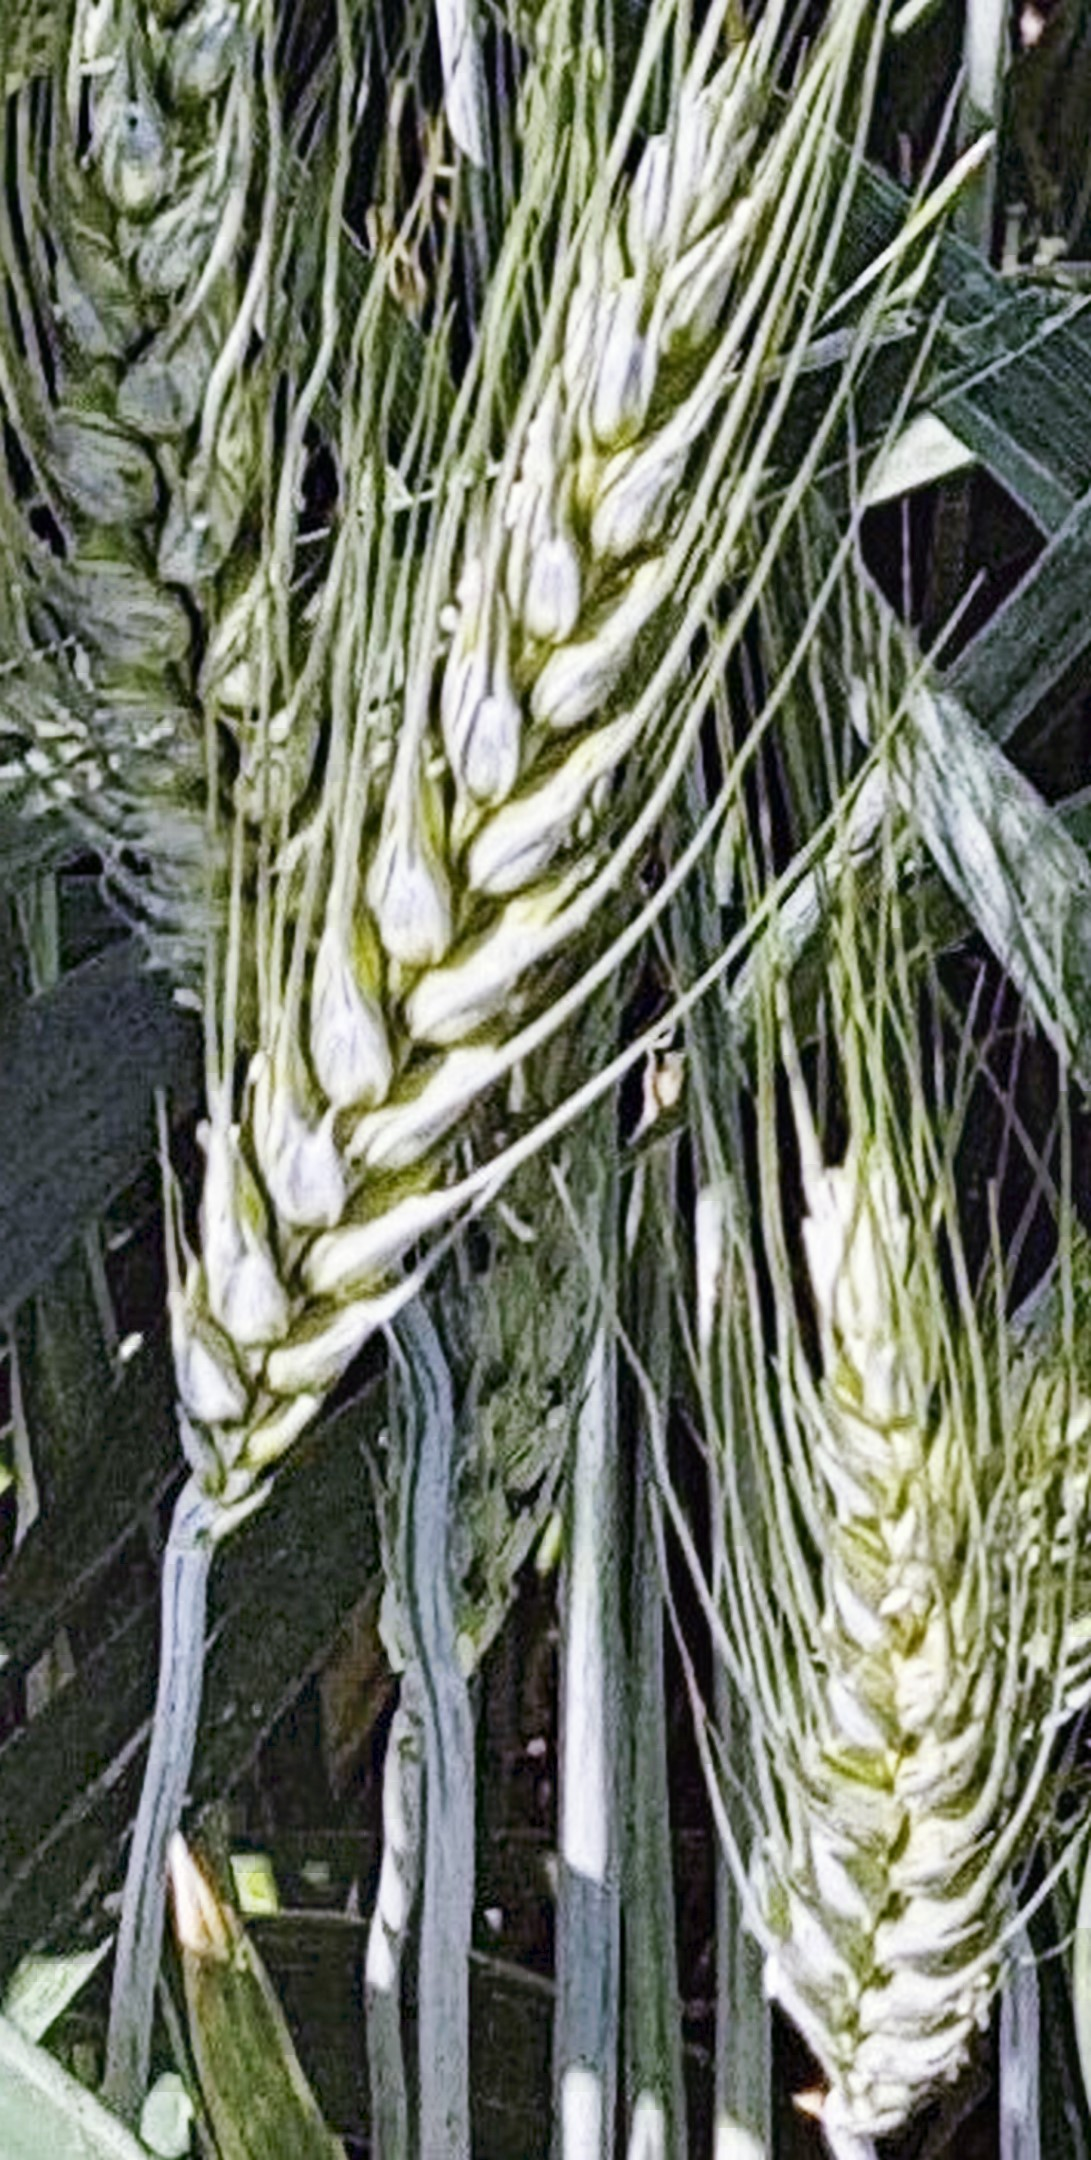Healthy Wheat: (148, 68, 877, 1459)
